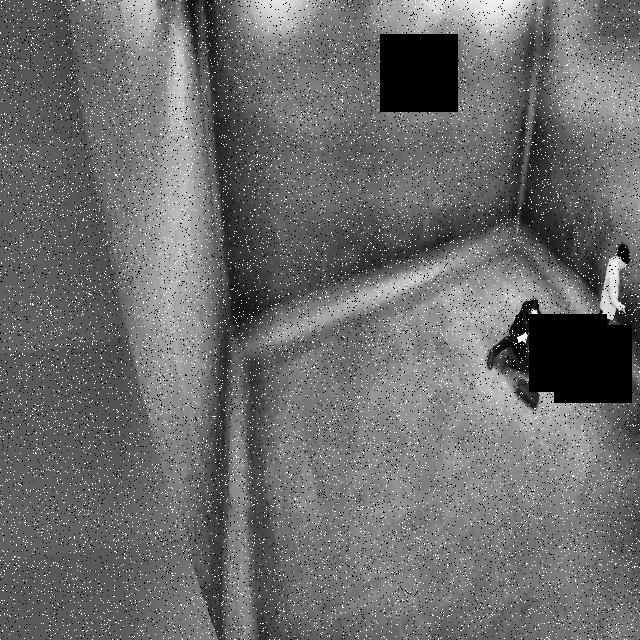assult: (484, 236, 629, 421)
